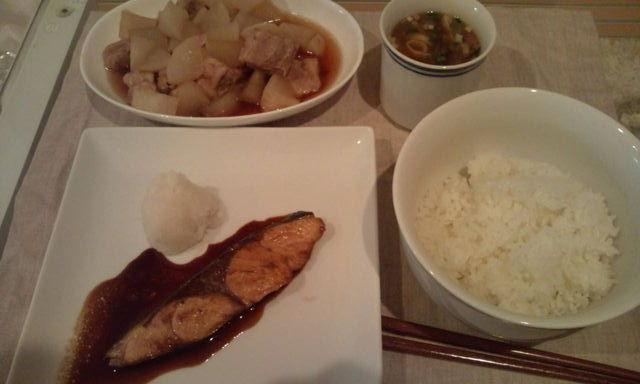rice: (415, 155, 618, 317)
